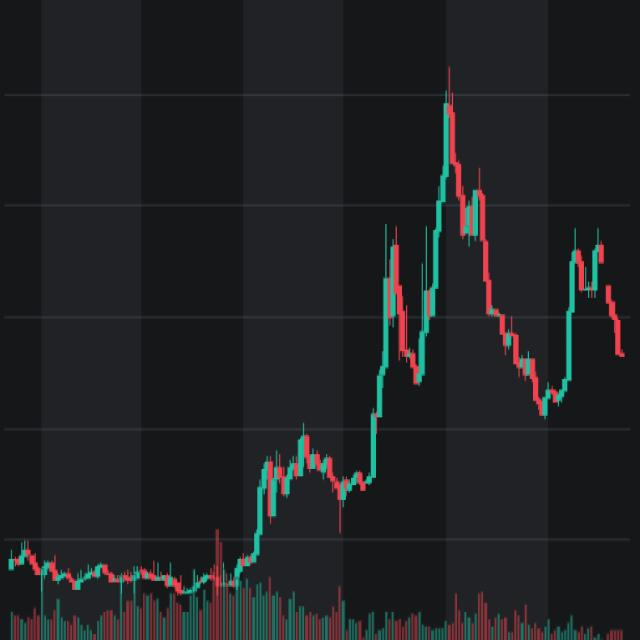Descending-Triangle: (428, 53, 510, 234)
Double-Top: (558, 216, 618, 336)
Head-Shoulders: (362, 52, 624, 426)
